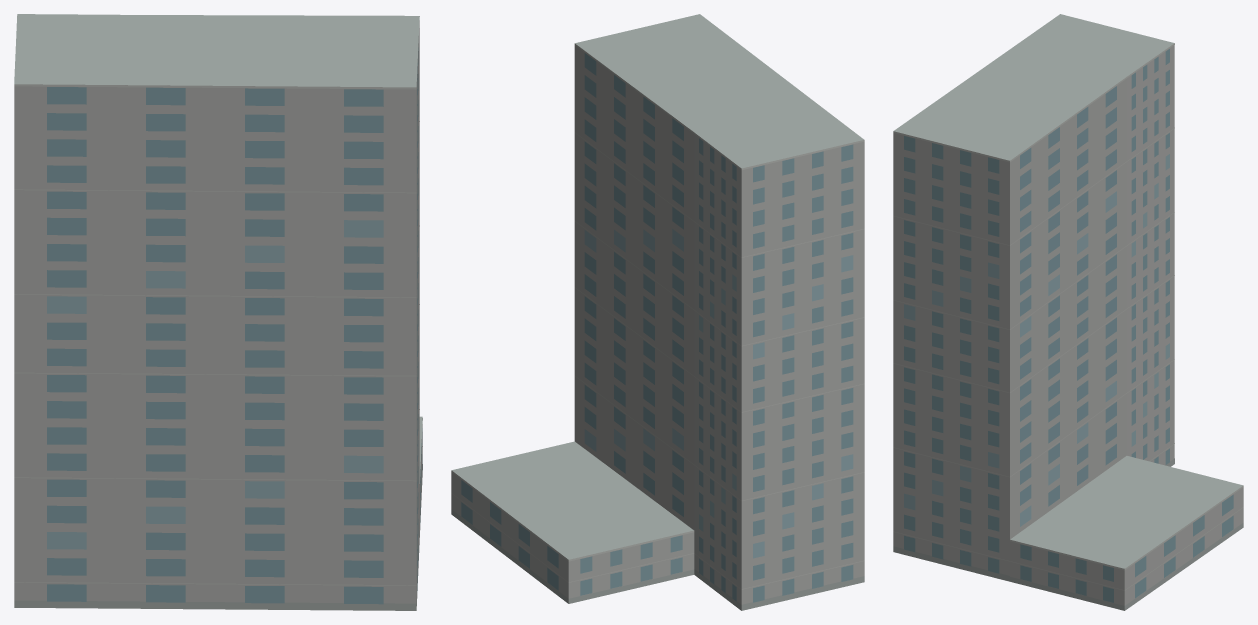
The model's file is residential-de7849f7-6594-414c-a7c5-f1c89bdf6c14.glb.
The picture shows the model from 3 angles, left to right: view 1: azimuth 30°, elevation 25°; view 2: azimuth 150°, elevation 25°; view 3: azimuth 270°, elevation 25°; orthographic projection. The views are drawn at different scales.
Parts seen in each view (by area): view 1: residential-de7849f7-6594-414c-a7c5-f1c89bdf6c14.tmp; view 2: residential-de7849f7-6594-414c-a7c5-f1c89bdf6c14.tmp; view 3: residential-de7849f7-6594-414c-a7c5-f1c89bdf6c14.tmp.
Boxes of the visible parts, x1,y1,x2,y2 form: residential-de7849f7-6594-414c-a7c5-f1c89bdf6c14.tmp: [14, 14, 422, 610]; residential-de7849f7-6594-414c-a7c5-f1c89bdf6c14.tmp: [451, 14, 864, 610]; residential-de7849f7-6594-414c-a7c5-f1c89bdf6c14.tmp: [893, 14, 1243, 610].
Bounding box in the file's own units: 54.74 × 61 × 46.03.
